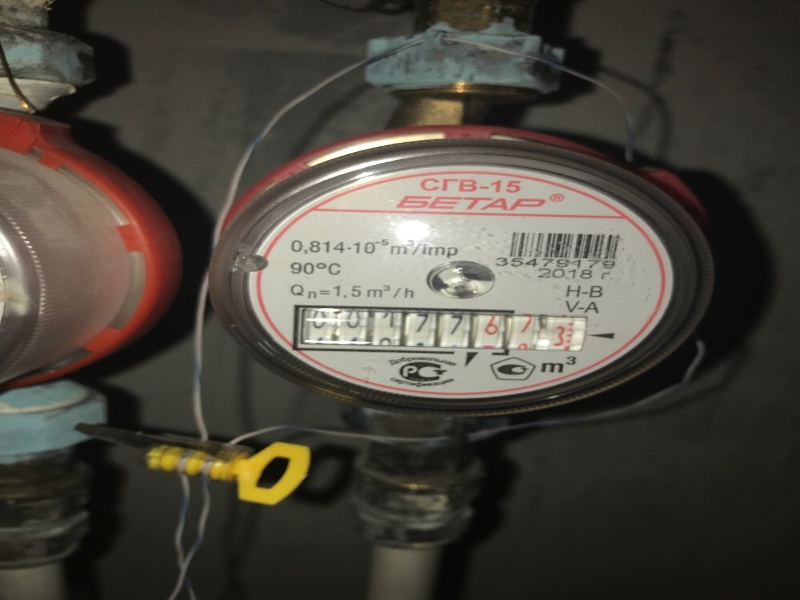meter: (291, 307, 575, 353)
